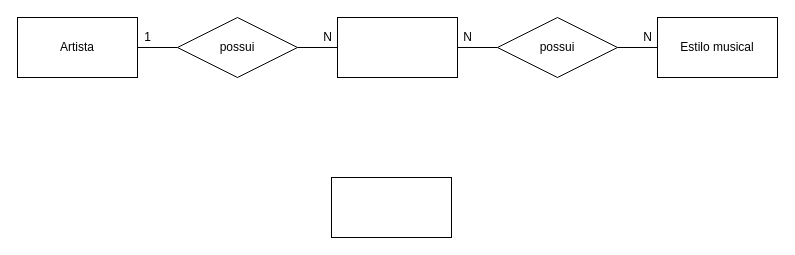
Image size: 795x255. Some labels were removed from this diagram. Here are the shapes that lost their labels. From the top down, the centre of each, then its label:
At (x=397, y=47): "Album".
At (x=391, y=207): "Usuario".
